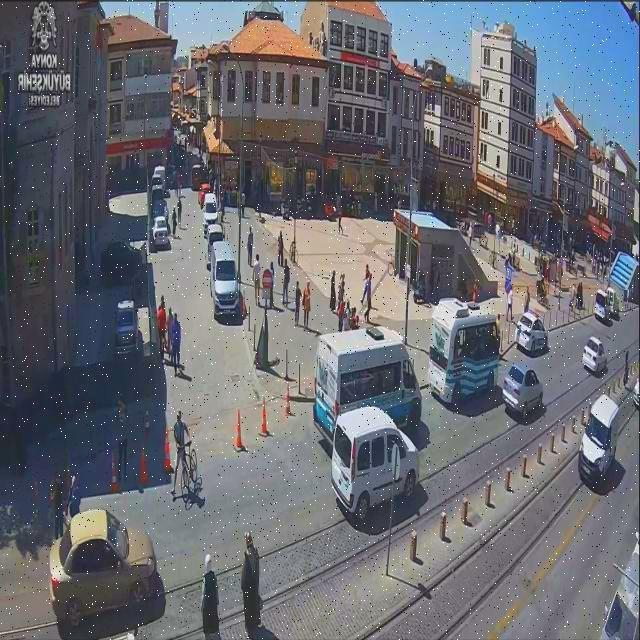Car: (48, 506, 158, 626), (330, 406, 420, 520), (595, 518, 636, 640), (578, 395, 622, 488), (502, 362, 544, 419), (516, 310, 548, 352), (115, 300, 138, 356), (583, 336, 607, 375), (202, 193, 220, 233), (151, 215, 171, 249), (207, 227, 226, 261), (594, 291, 611, 324), (151, 166, 167, 199), (152, 196, 168, 226), (605, 287, 619, 319), (191, 164, 207, 190), (198, 185, 211, 208), (202, 217, 209, 234)
Cycle: (172, 402, 200, 505)
Truck: (311, 324, 421, 442), (428, 298, 498, 406)
Van: (210, 243, 240, 318)
